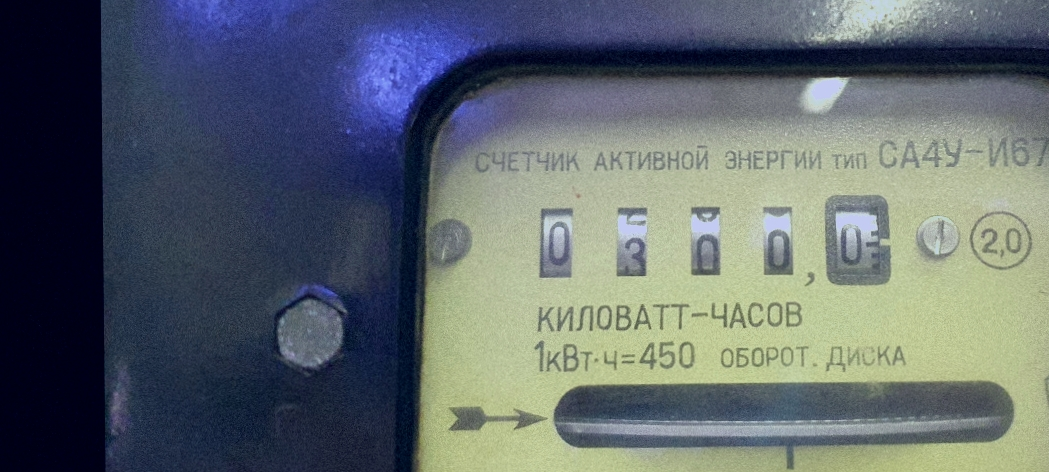0: (836, 220, 864, 269), (545, 216, 571, 268), (762, 227, 791, 273), (692, 229, 719, 277)
3: (619, 233, 647, 277)
screen: (517, 188, 899, 297)
